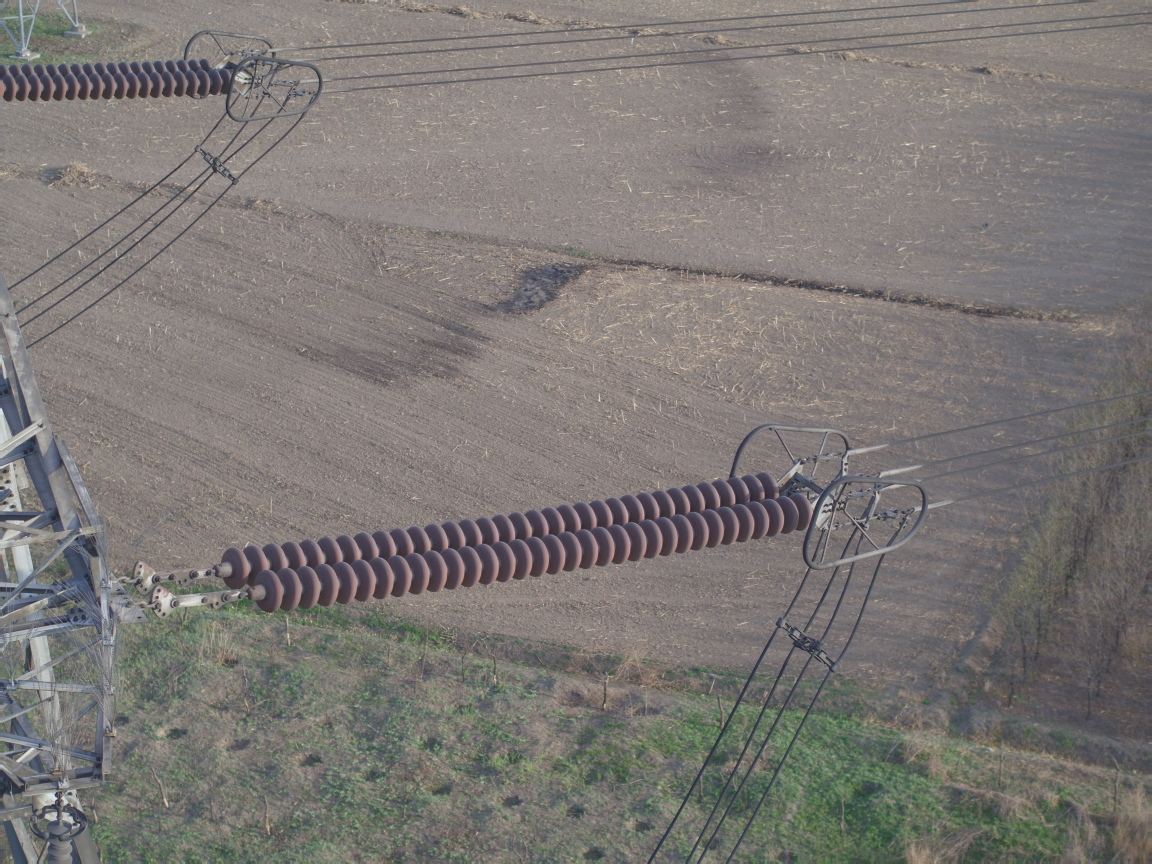insulator: (179, 469, 822, 615), (1, 56, 244, 105)
